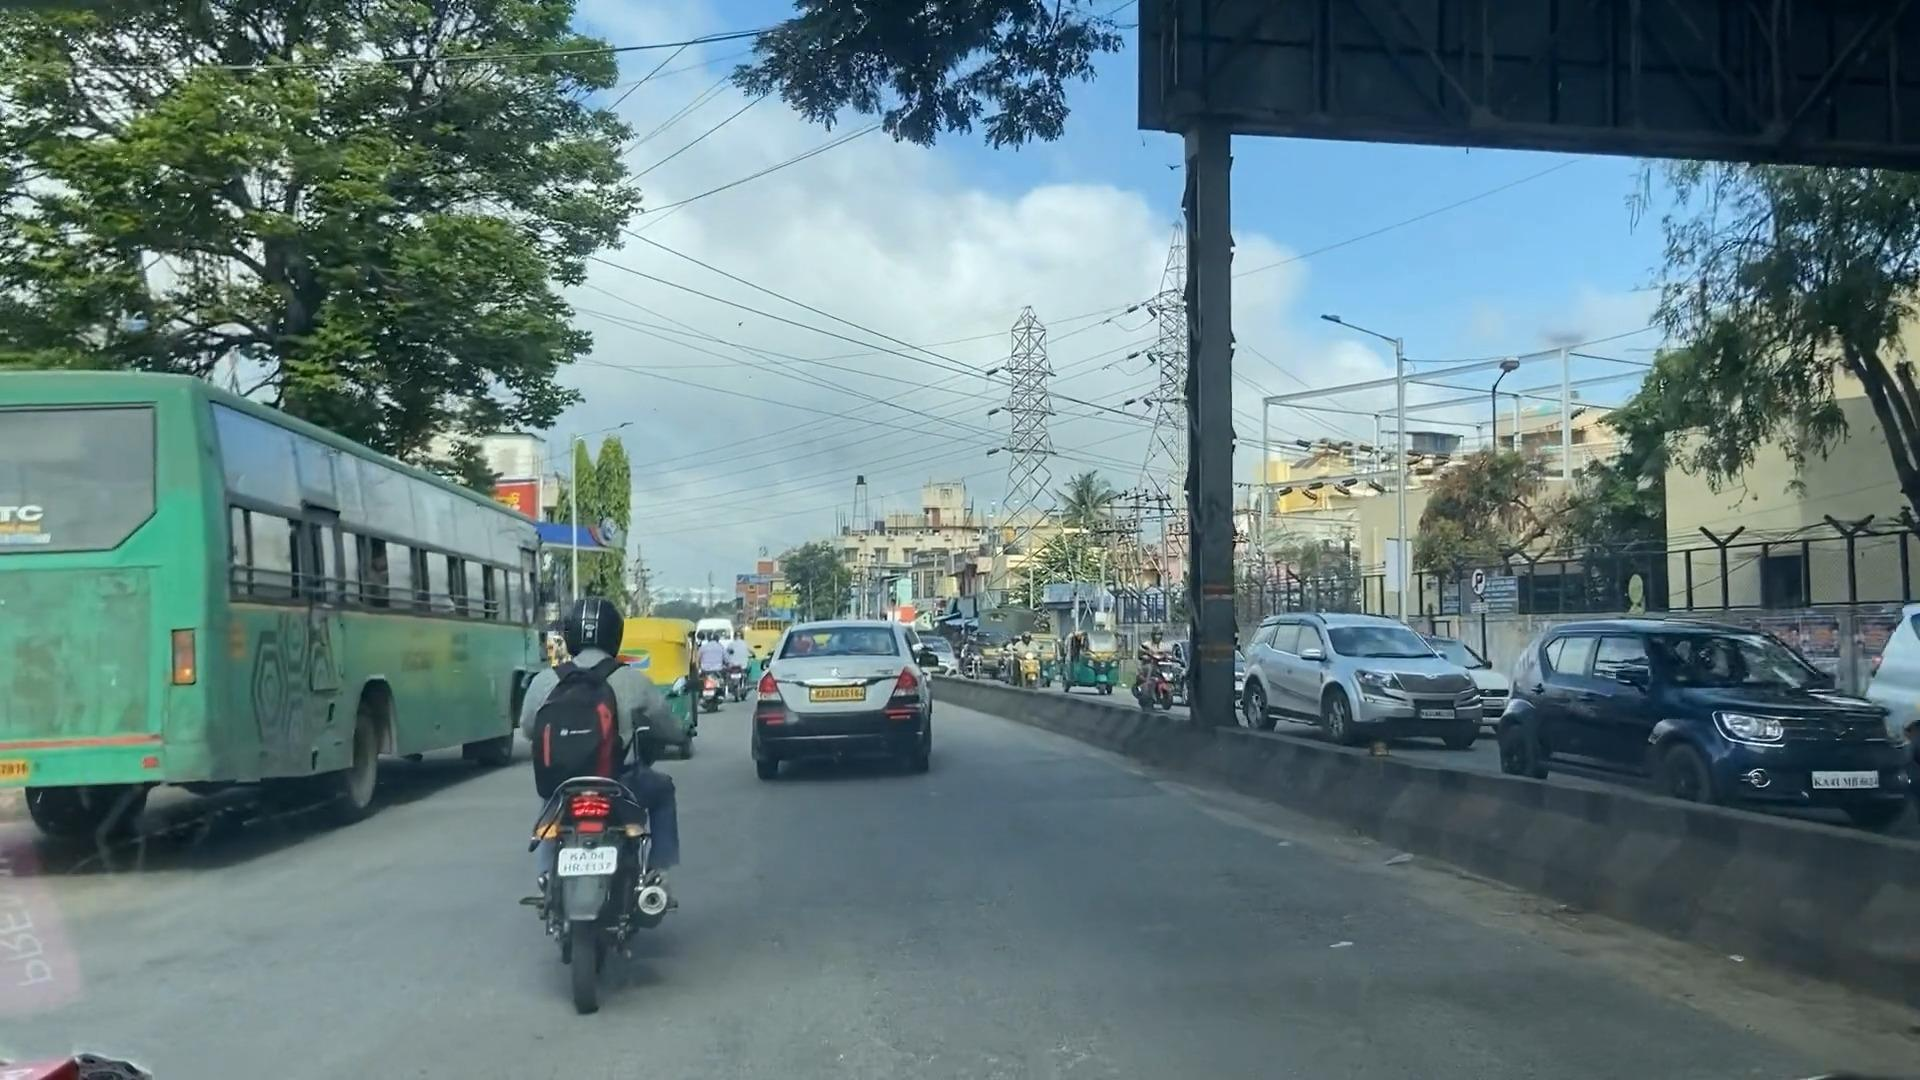HMV: (15, 367, 509, 802)
LMV: (514, 588, 683, 992), (753, 624, 932, 782)
